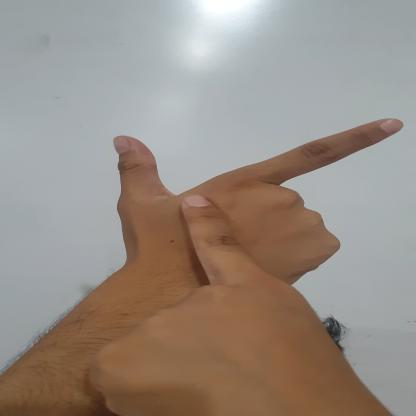Y: (112, 117, 406, 340)
